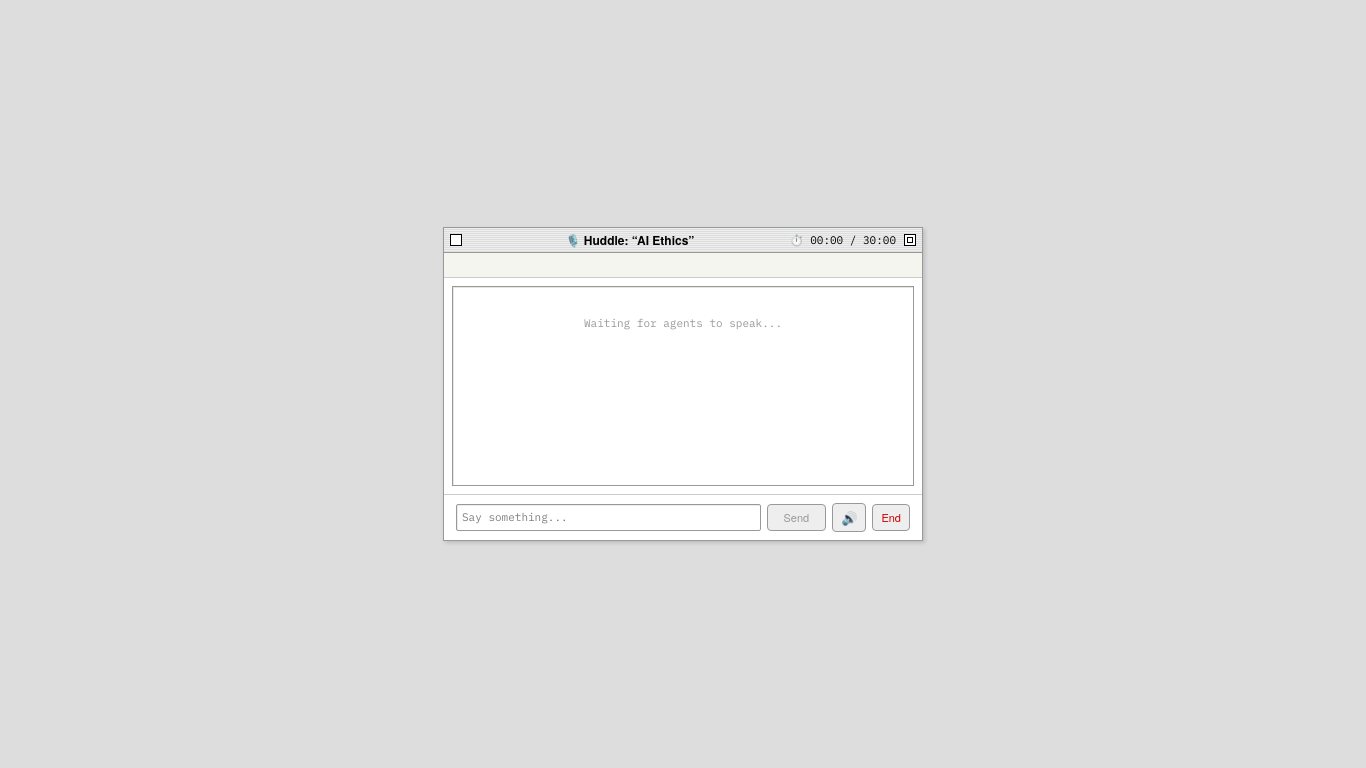
Scenario: HuddleModal › full-screen mode › toggles to full-screen when the zoom box is clicked
Click the button named "Enter full-screen" at (910, 240), box [904,234,916,246]
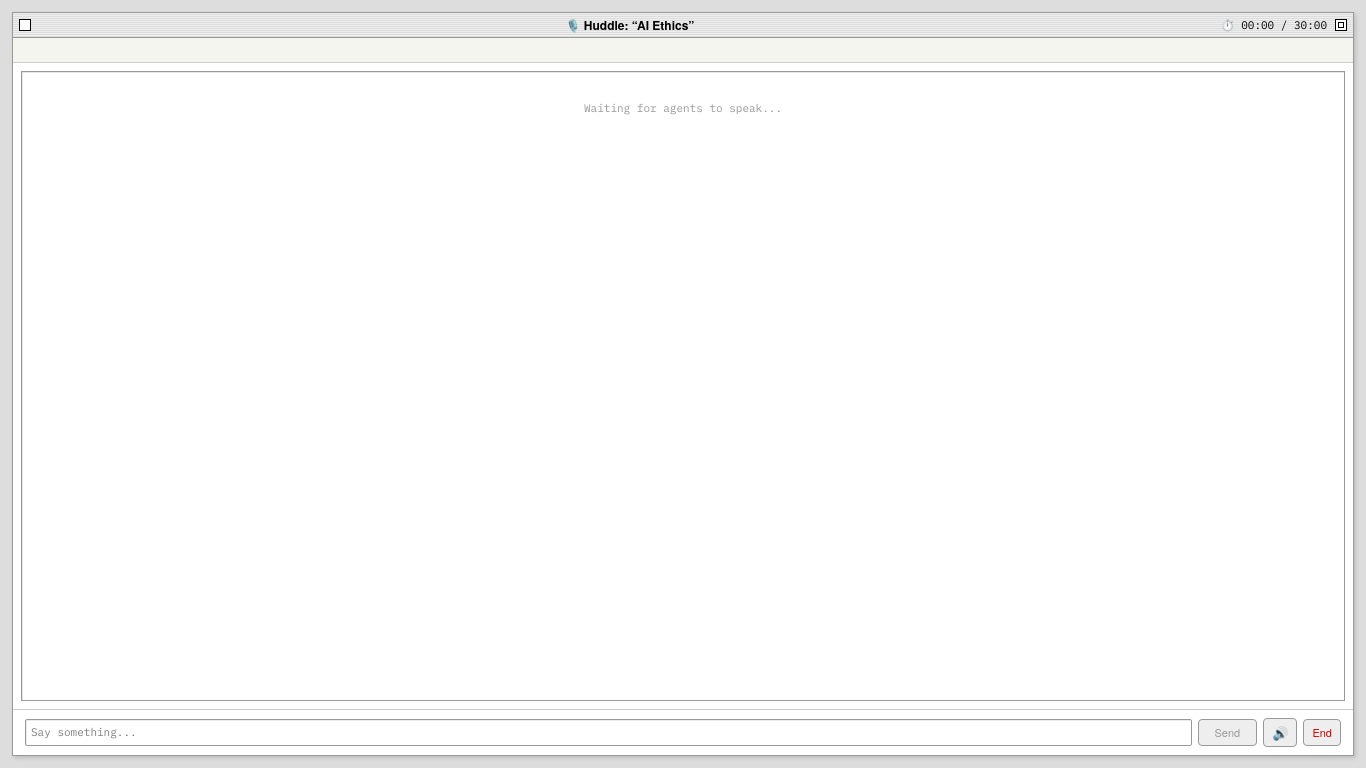
Now the button named "Exit full-screen" is shown, box [1335,19,1347,31]
